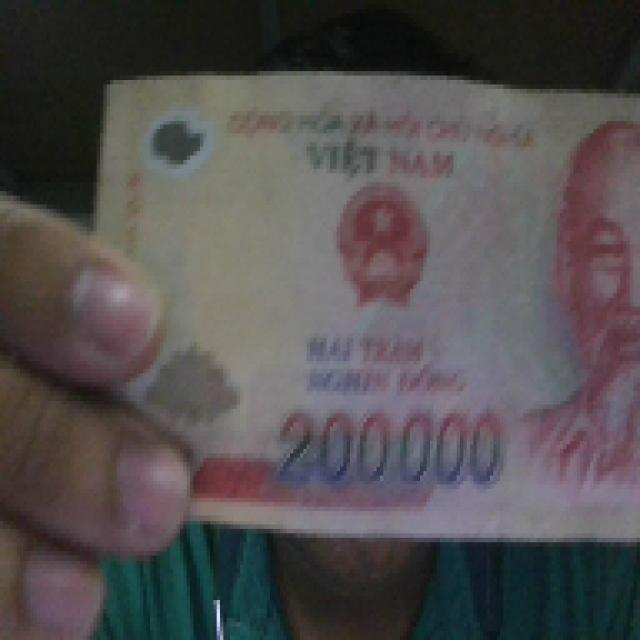200 000 VND: (86, 62, 636, 547)
